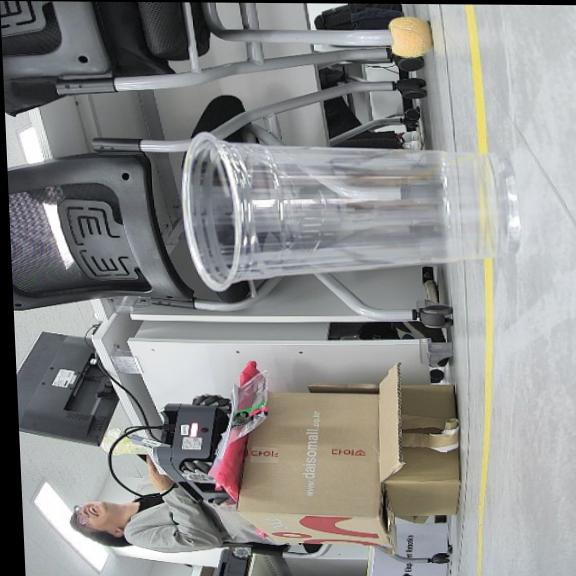Plastik: (182, 132, 518, 290)
